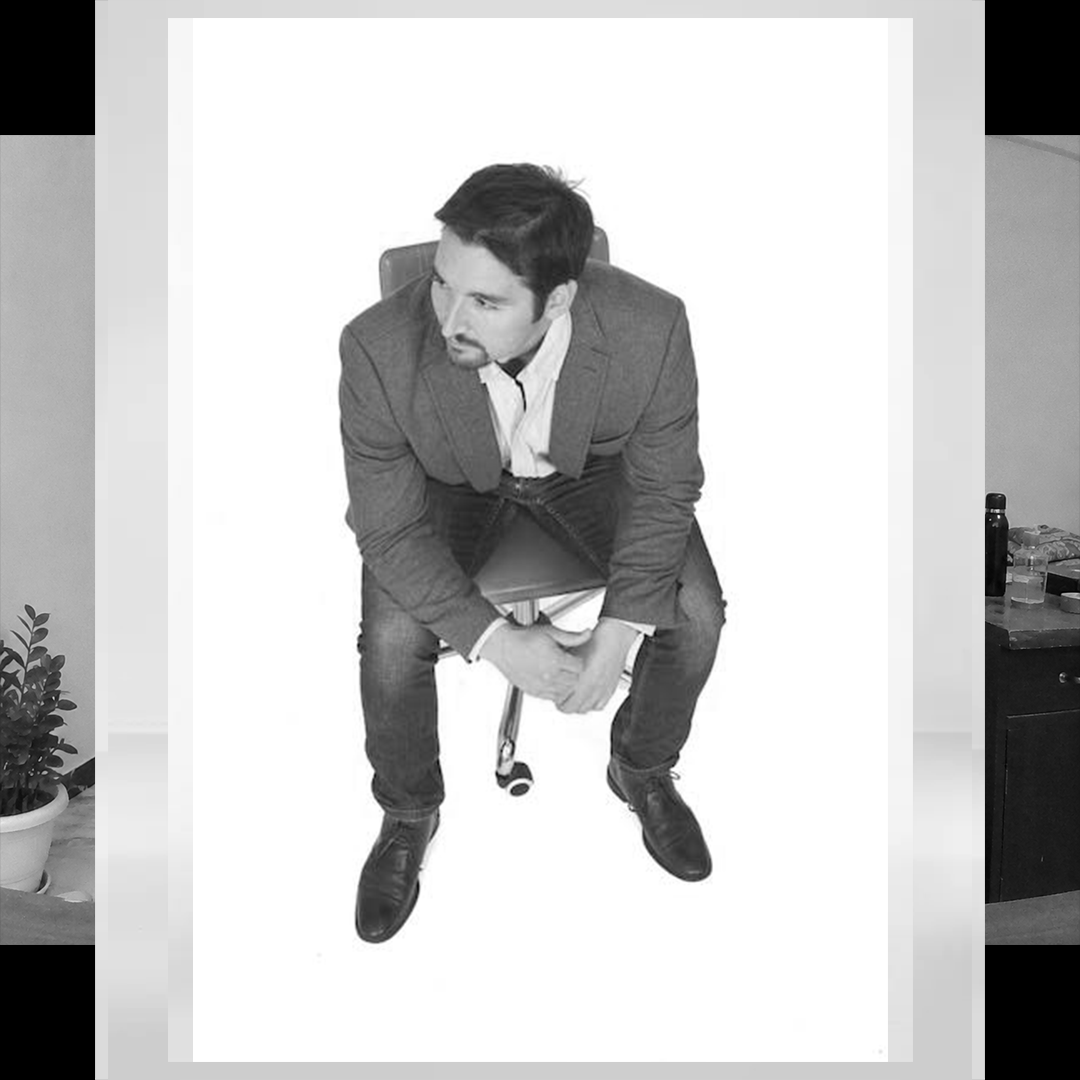distracted: (277, 91, 724, 762)
